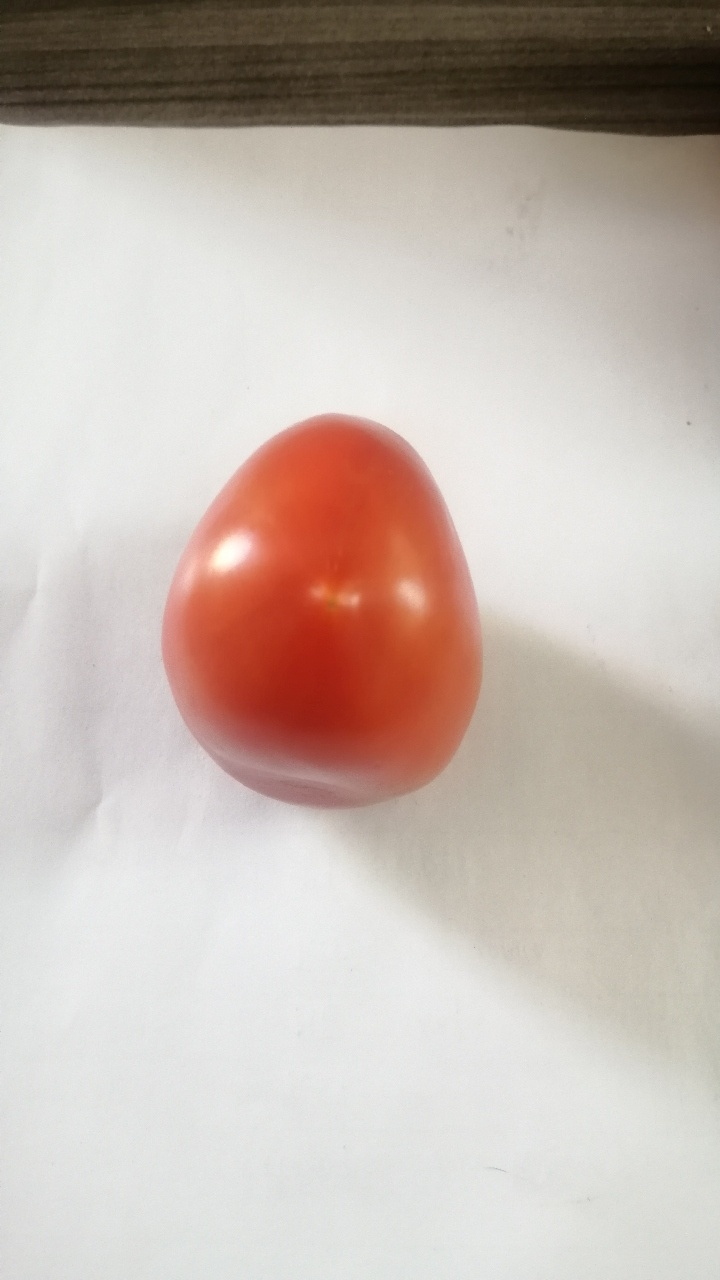tomateRojo: (138, 386, 521, 831)
